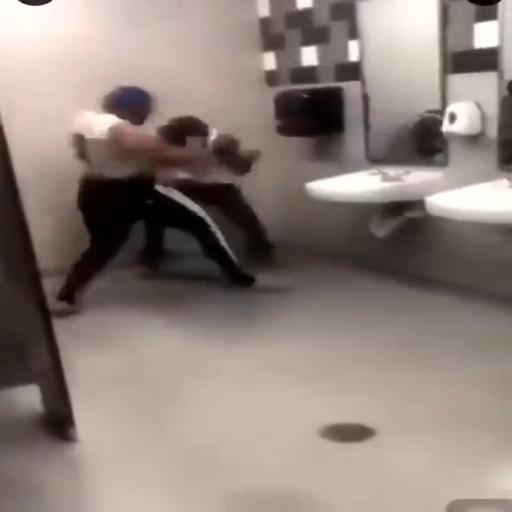violencia: (34, 77, 300, 310)
